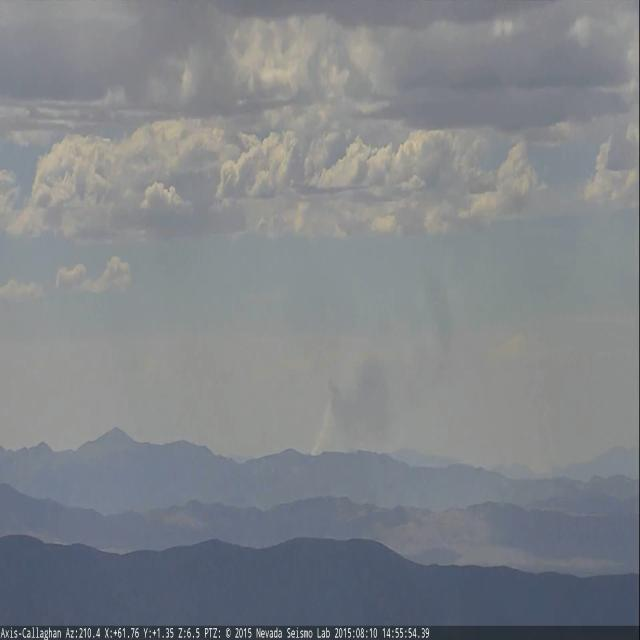smoke: (311, 356, 388, 456)
